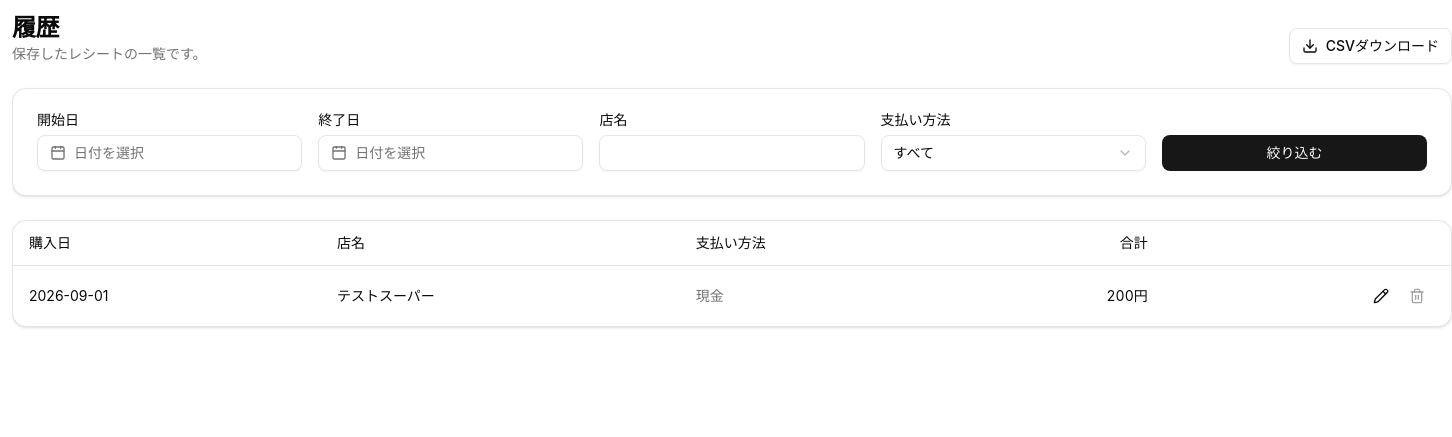
HistoryPage › shows an error message when deleting a receipt fails
Click the button named "削除" at point(1417, 296), box [1399, 278, 1435, 314]
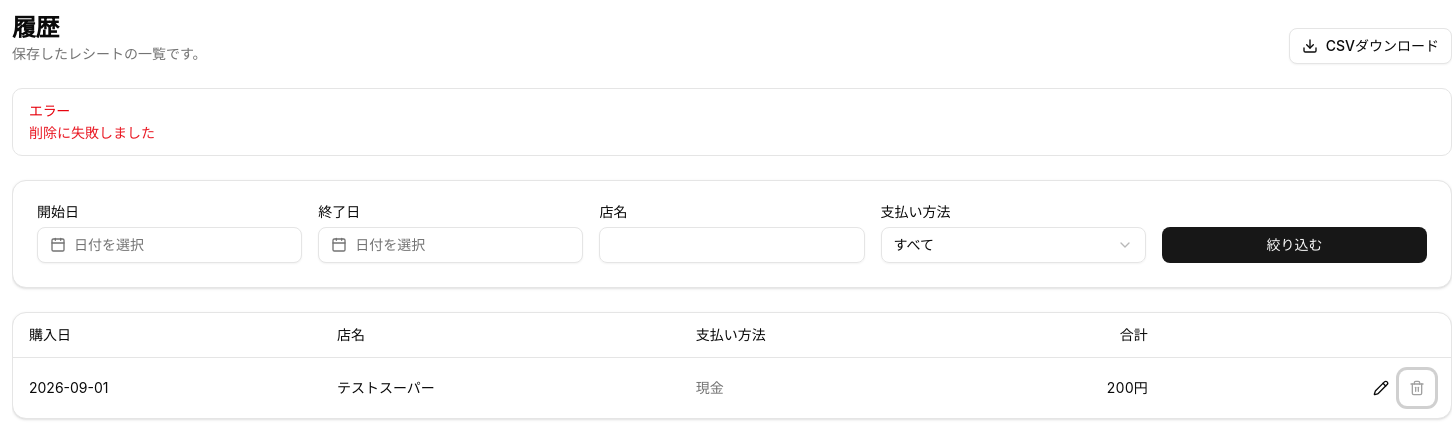
Check: the message shows "削除に失敗しました", box [29, 124, 155, 141]
